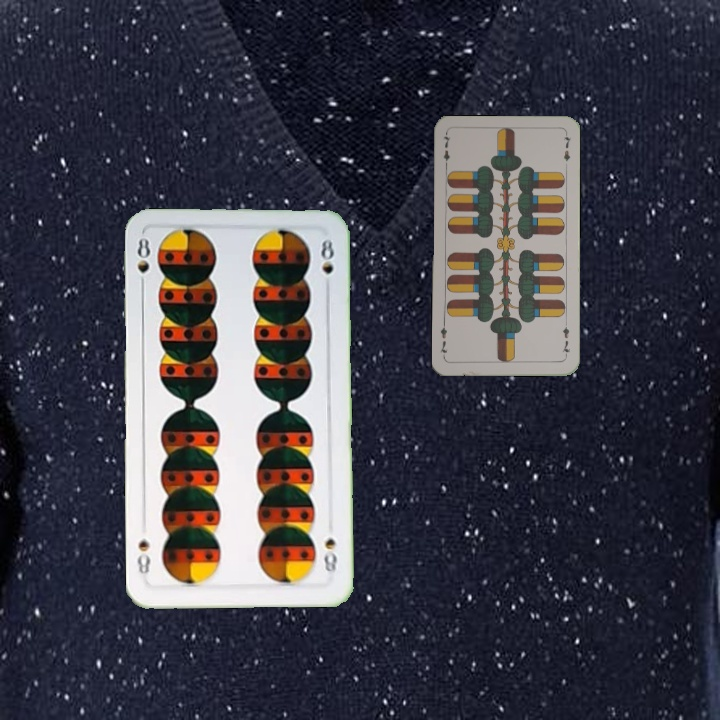E7: (558, 319, 572, 360), (439, 130, 453, 171)
S8: (133, 234, 153, 293), (319, 534, 339, 575)
